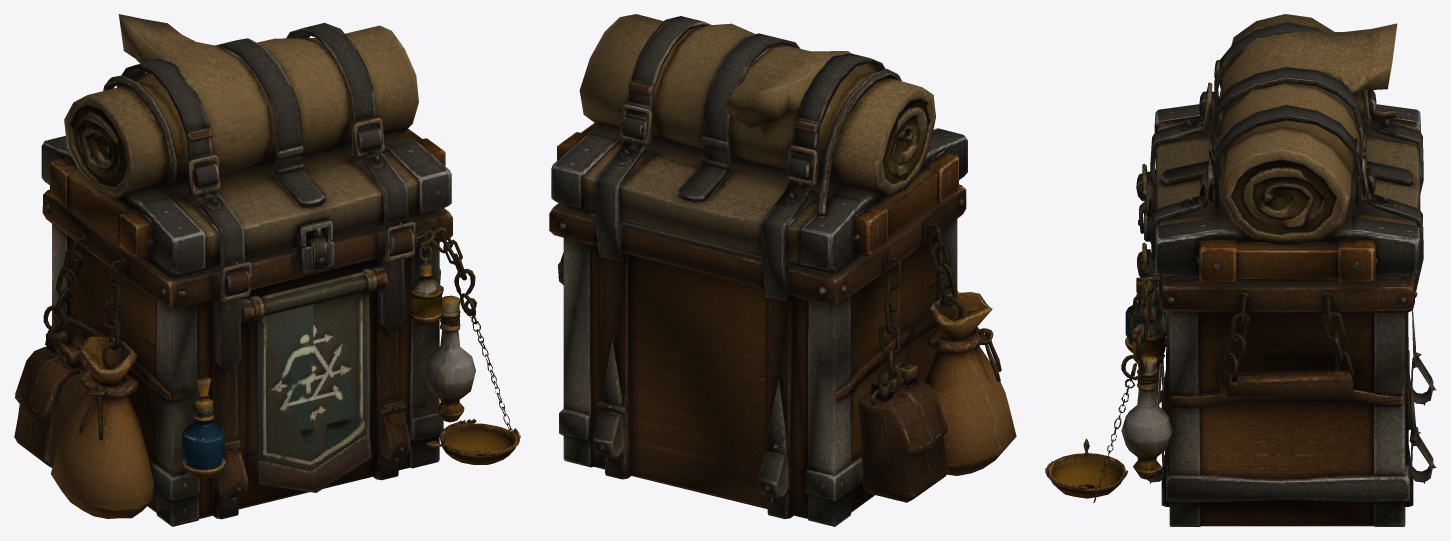
Rendered from tripo_convert_0131e904-2be0-426d-bc2b-87beb2c9113c.fbx.
The picture shows the model from 3 angles, left to right: view 1: azimuth 30°, elevation 25°; view 2: azimuth 150°, elevation 25°; view 3: azimuth 270°, elevation 25°; orthographic projection. The views are drawn at different scales.
Visible parts, largest first — view 1: tripo_node_0131e904; view 2: tripo_node_0131e904; view 3: tripo_node_0131e904.
Part boxes in pixels (bbox=[...]): tripo_node_0131e904: bbox=[14, 14, 520, 526]; tripo_node_0131e904: bbox=[549, 14, 1016, 526]; tripo_node_0131e904: bbox=[1045, 14, 1436, 526].
Size of the model in its own units: 96.68 by 87.3 by 99.8.
Materials: 1 (1 with a texture image).
